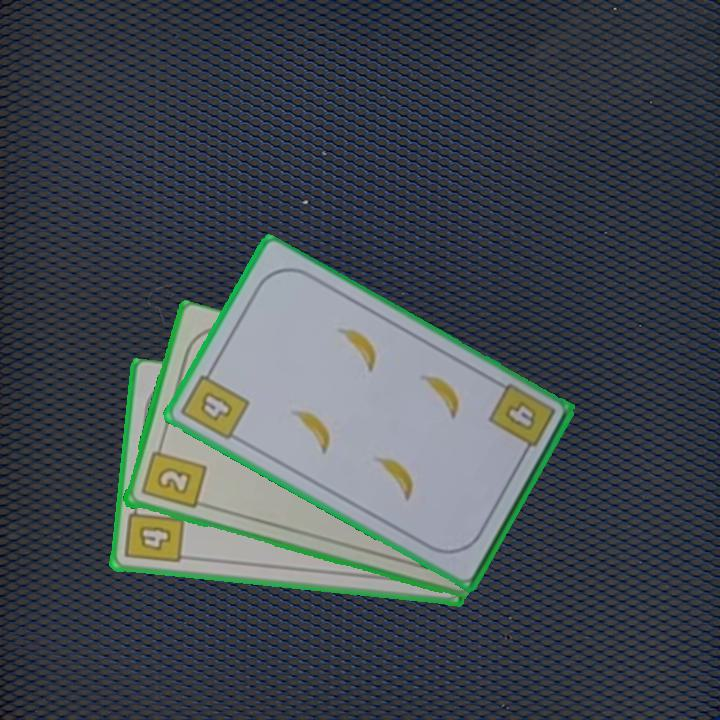2b: (137, 439, 208, 512)
4b: (484, 379, 558, 461), (177, 363, 252, 443), (122, 499, 187, 566)
